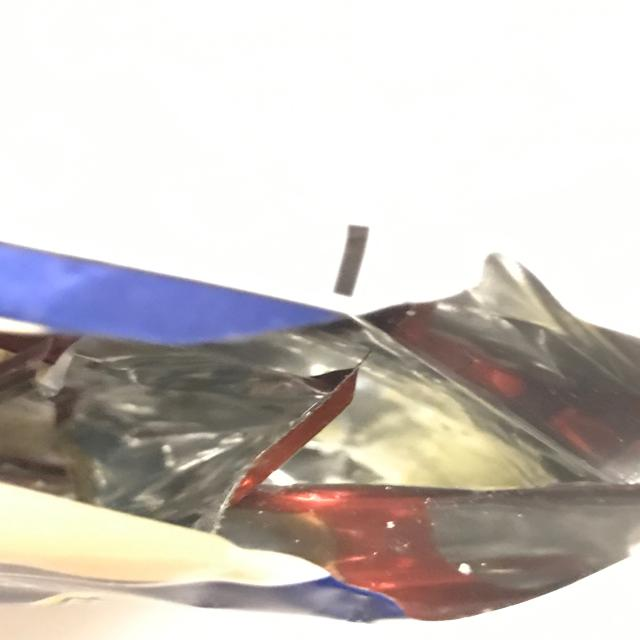trash: (1, 228, 638, 626)
